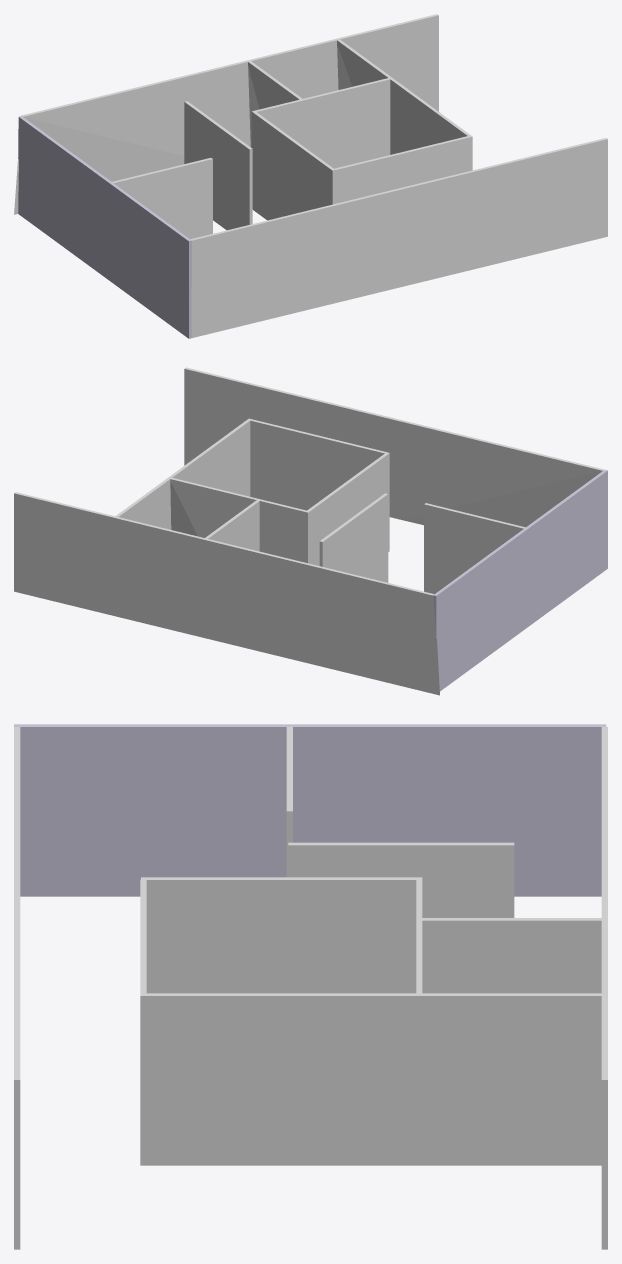
The model's file is walls.glb.
3 renders of one model, top to bottom at view 1: azimuth 30°, elevation 25°; view 2: azimuth 150°, elevation 25°; view 3: azimuth 270°, elevation 25°, orthographic. The views are drawn at different scales.
Parts seen in each view (by area): view 1: Cube.001, Cube.002, Cube.003, Cube.007, Cube.006, Cube.009, Cube.005, Cube.010, Cube.004, Cube.008; view 2: Cube.002, Cube.001, Cube.003, Cube.005, Cube.007, Cube.010, Cube.004, Cube.009, Cube.006, Cube.008; view 3: Cube.003, Cube.004, Cube.006, Cube.008, Cube.009, Cube.001, Cube.002, Cube.005, Cube.010, Cube.007.
Part boxes in pixels (x1=…): Cube.001: x1=190, y1=138, x2=607, y2=337; Cube.002: x1=14, y1=14, x2=438, y2=214; Cube.003: x1=18, y1=116, x2=191, y2=338; Cube.007: x1=251, y1=77, x2=390, y2=209; Cube.006: x1=253, y1=112, x2=335, y2=220; Cube.009: x1=184, y1=101, x2=252, y2=230; Cube.005: x1=334, y1=135, x2=472, y2=203; Cube.010: x1=111, y1=158, x2=212, y2=239; Cube.004: x1=337, y1=39, x2=470, y2=154; Cube.008: x1=248, y1=60, x2=302, y2=147; Cube.002: x1=14, y1=492, x2=439, y2=695; Cube.001: x1=184, y1=367, x2=604, y2=527; Cube.003: x1=433, y1=469, x2=607, y2=691; Cube.005: x1=248, y1=418, x2=386, y2=510; Cube.007: x1=170, y1=477, x2=309, y2=563; Cube.010: x1=424, y1=503, x2=526, y2=593; Cube.004: x1=114, y1=419, x2=250, y2=529; Cube.009: x1=319, y1=493, x2=388, y2=582; Cube.006: x1=307, y1=452, x2=389, y2=565; Cube.008: x1=203, y1=499, x2=260, y2=551; Cube.003: x1=14, y1=724, x2=606, y2=896; Cube.004: x1=145, y1=993, x2=606, y2=1165; Cube.006: x1=141, y1=877, x2=416, y2=993; Cube.008: x1=416, y1=918, x2=606, y2=993; Cube.009: x1=288, y1=842, x2=514, y2=917; Cube.001: x1=14, y1=727, x2=20, y2=1249; Cube.002: x1=601, y1=727, x2=607, y2=1249; Cube.005: x1=140, y1=879, x2=146, y2=1165; Cube.010: x1=286, y1=726, x2=292, y2=877; Cube.007: x1=416, y1=877, x2=422, y2=994.
Bounding box in the file's own units: 27.23 × 6.01 × 19.05.
